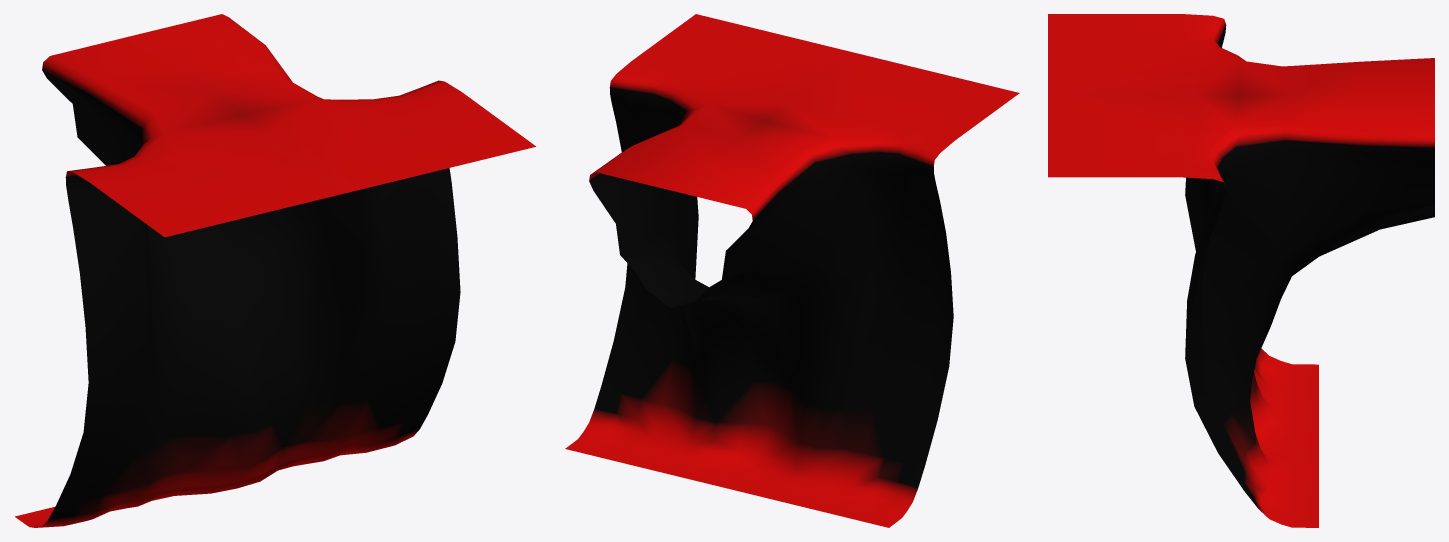
Rendered from CrossingCliff02D 2M Background.fbx.
The picture shows the model from 3 angles, left to right: view 1: azimuth 30°, elevation 25°; view 2: azimuth 150°, elevation 25°; view 3: azimuth 270°, elevation 25°; orthographic projection. The views are drawn at different scales.
Parts seen in each view (by area): view 1: CrossingCliff02D 2M Background; view 2: CrossingCliff02D 2M Background; view 3: CrossingCliff02D 2M Background.
Boxes of the visible parts, x1,y1,x2,y2 form: CrossingCliff02D 2M Background: (15, 14, 535, 527); CrossingCliff02D 2M Background: (565, 14, 1019, 527); CrossingCliff02D 2M Background: (1048, 14, 1434, 527).
Bounding box in the file's own units: 2 × 2.01 × 2.
